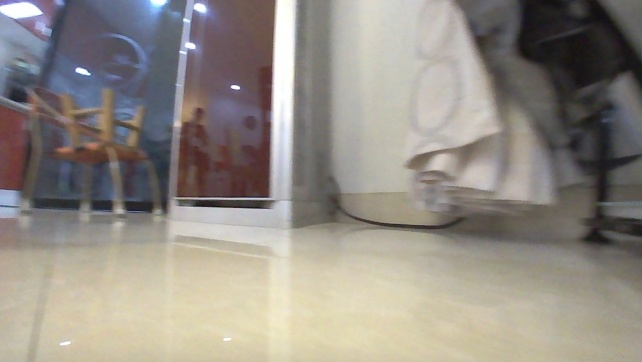wire: (328, 200, 465, 233)
